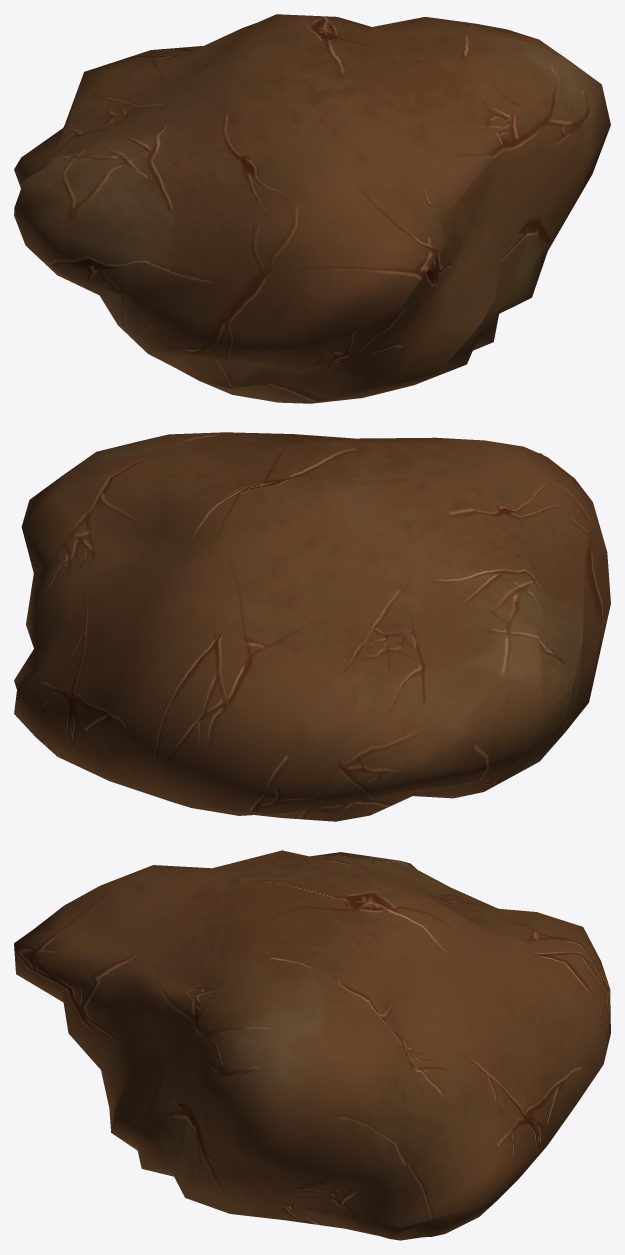
The model's file is CA_OPE_Props_Caverna_Pedra_Grande_001.fbx.
3 renders of one model, top to bottom at view 1: azimuth 30°, elevation 25°; view 2: azimuth 150°, elevation 25°; view 3: azimuth 270°, elevation 25°, orthographic. The views are drawn at different scales.
Visible parts, largest first — view 1: CA_OPE_Props_Caverna_Pedra_Grande_001; view 2: CA_OPE_Props_Caverna_Pedra_Grande_001; view 3: CA_OPE_Props_Caverna_Pedra_Grande_001.
Part boxes in pixels (x1,y1,x2,y2): CA_OPE_Props_Caverna_Pedra_Grande_001: (14, 14, 610, 403); CA_OPE_Props_Caverna_Pedra_Grande_001: (14, 432, 610, 821); CA_OPE_Props_Caverna_Pedra_Grande_001: (14, 850, 610, 1240).
Bounding box in the file's own units: 20.83 × 11.55 × 20.65.
